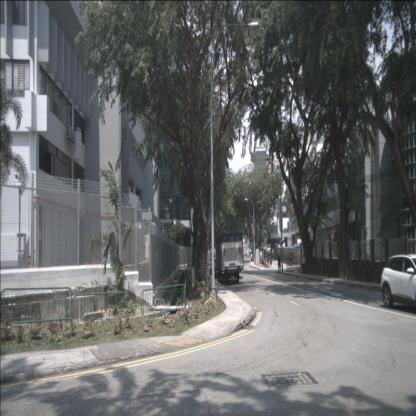human-pedestrian-adult: (301, 253, 307, 276), (277, 255, 280, 272), (289, 252, 292, 264), (289, 252, 292, 263), (292, 253, 294, 263), (250, 253, 252, 262)
vehicle-bicycle: (200, 288, 218, 309), (200, 276, 214, 299)
vehicle-car: (380, 254, 416, 308)
vehicle-truck: (215, 232, 244, 283)
